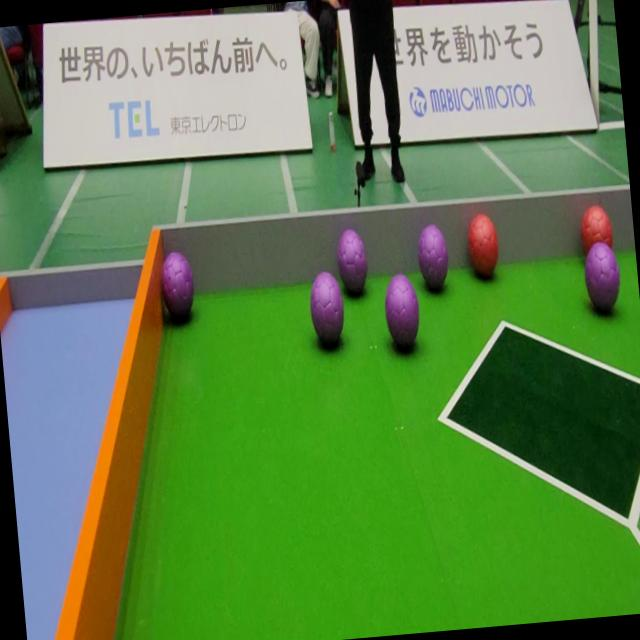purple_ball: (305, 268, 347, 352), (381, 272, 424, 354), (412, 217, 453, 297), (158, 248, 198, 324), (582, 248, 624, 319), (333, 223, 371, 300)
red_ball: (464, 211, 501, 279), (577, 204, 615, 244)
